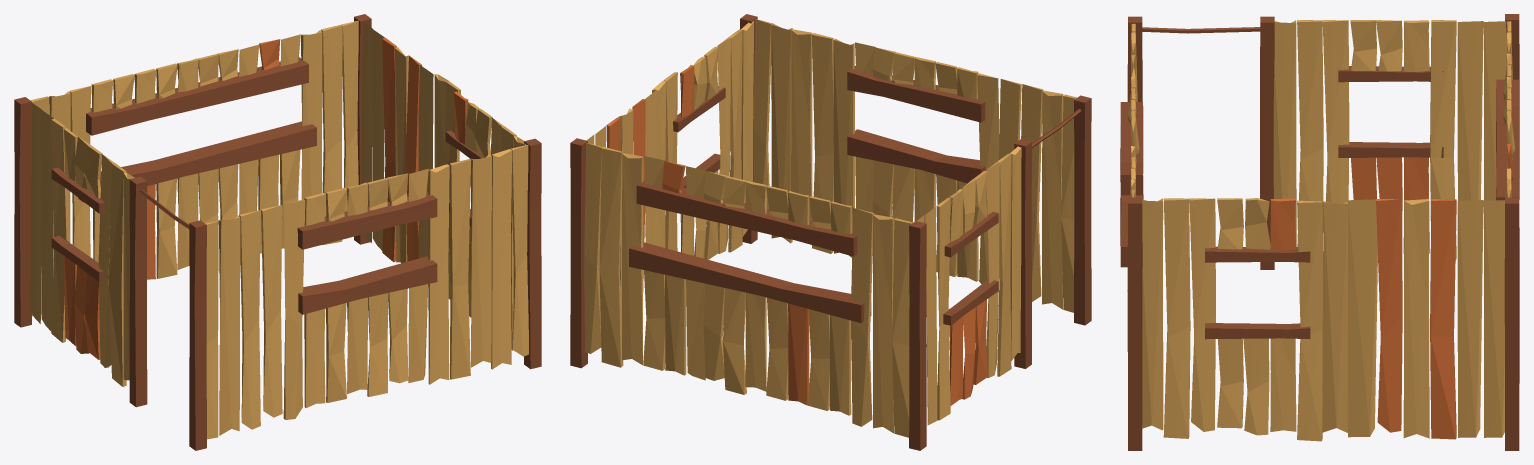
File: House  Ground floor .fbx
3 renders of one model, left to right at view 1: azimuth 30°, elevation 25°; view 2: azimuth 150°, elevation 25°; view 3: azimuth 270°, elevation 25°, orthographic. The views are drawn at different scales.
Parts seen in each view (by area): view 1: House Ground floor; view 2: House Ground floor; view 3: House Ground floor.
Boxes of the visible parts, box(x1,y1,x2,y2) form: House Ground floor: box(14, 14, 541, 450); House Ground floor: box(570, 14, 1091, 450); House Ground floor: box(1120, 14, 1519, 450).
Bounding box in the file's own units: 418 × 254 × 371.
